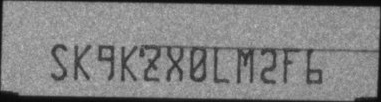0: (188, 44, 207, 81)
2: (260, 46, 278, 84)
6: (306, 46, 322, 85)
9: (97, 44, 115, 81)
F: (283, 46, 301, 85)
K: (74, 41, 92, 81), (120, 45, 138, 83)
L: (213, 46, 231, 83)
M: (236, 47, 254, 83)
S: (49, 43, 69, 81)
X: (166, 43, 184, 82)
Z: (142, 44, 162, 82)
